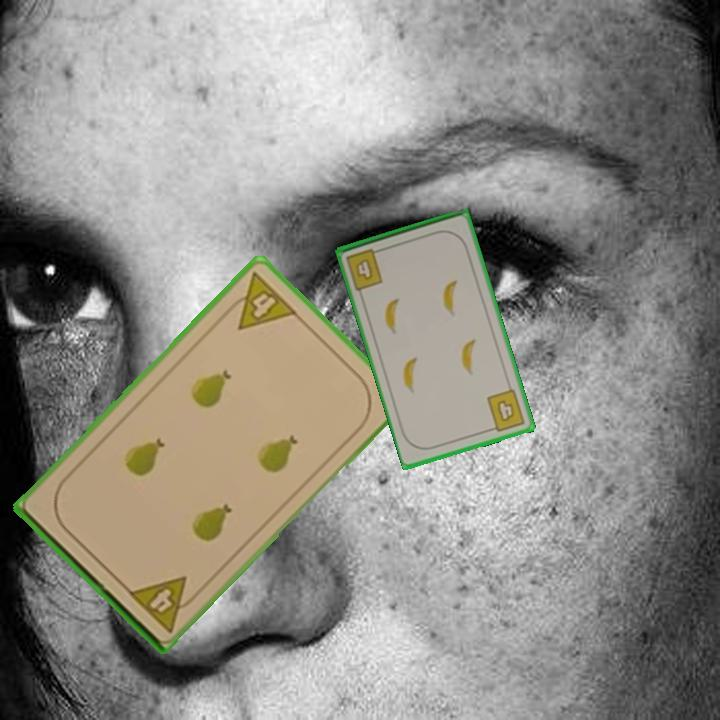4b: (483, 386, 528, 435), (342, 245, 386, 293)
4p: (219, 268, 300, 333), (124, 572, 203, 635)
